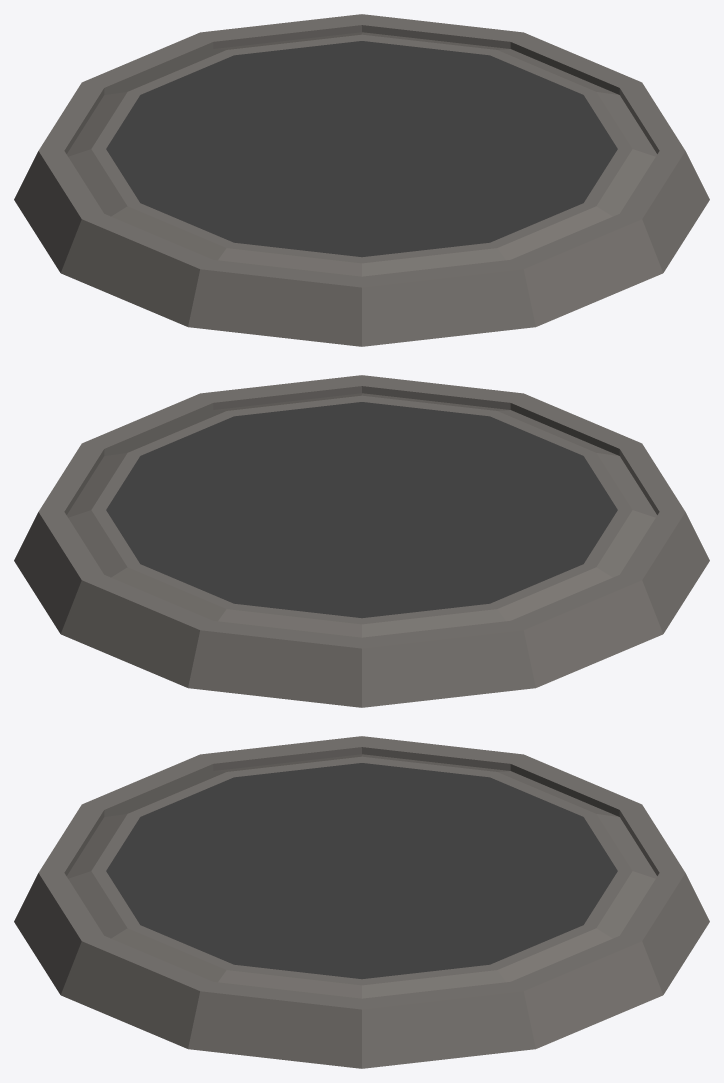
The model's file is Luke_01.fbx.
The picture shows the model from 3 angles, top to bottom: view 1: azimuth 30°, elevation 25°; view 2: azimuth 150°, elevation 25°; view 3: azimuth 270°, elevation 25°; orthographic projection.
Visible parts, largest first — view 1: Luke_01; view 2: Luke_01; view 3: Luke_01.
Boxes of the visible parts, <box> form: Luke_01: <box>14,14,709,346</box>; Luke_01: <box>14,375,709,707</box>; Luke_01: <box>14,736,709,1068</box>.
Bounding box in the file's own units: 1.65 × 0.1328 × 1.65.
